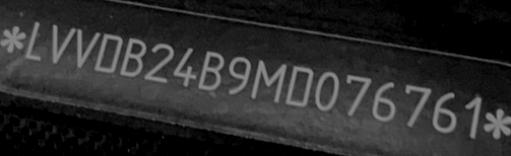letter: (248, 59, 289, 101), (336, 72, 377, 114), (397, 84, 436, 125), (459, 93, 489, 138), (196, 49, 228, 91), (72, 26, 104, 67), (94, 34, 126, 75), (432, 89, 465, 128), (144, 43, 176, 83), (46, 21, 75, 64), (170, 46, 201, 86), (116, 39, 147, 78), (371, 78, 398, 122), (286, 63, 315, 103), (312, 69, 339, 109), (226, 55, 253, 91), (24, 19, 43, 62)
